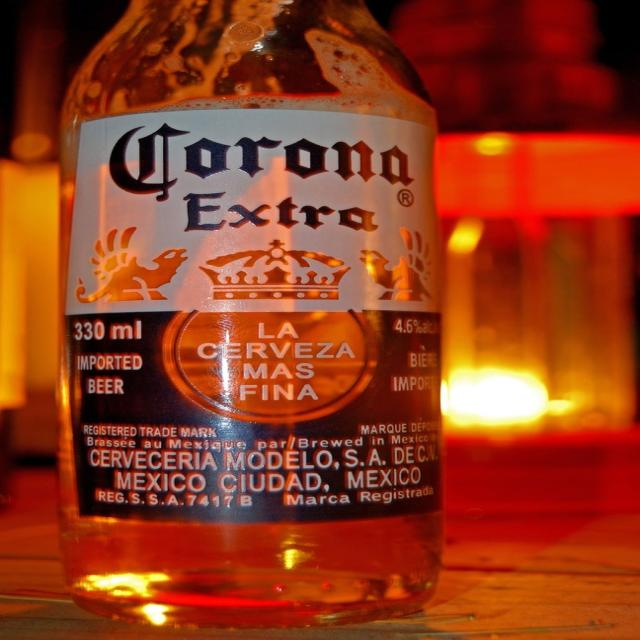corona: (65, 110, 445, 526)
